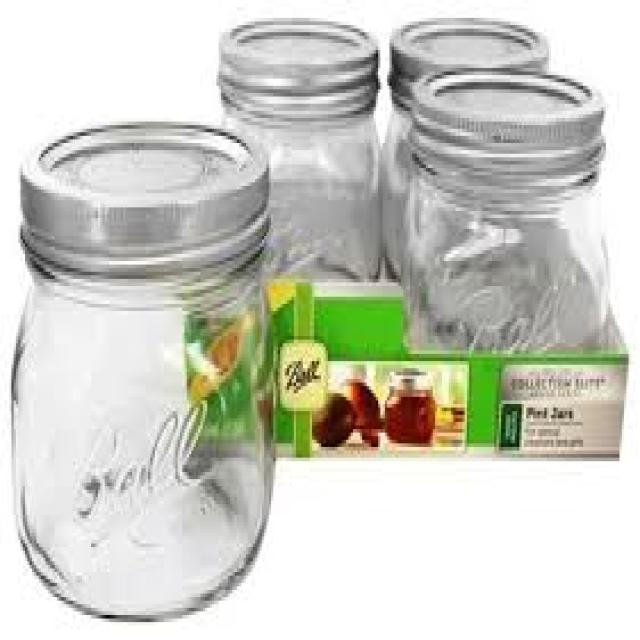cardboard: (183, 283, 406, 451), (403, 347, 626, 454)
glass: (12, 254, 274, 618), (403, 147, 608, 351), (219, 100, 383, 283), (380, 96, 408, 279)
metal: (21, 122, 264, 268), (403, 65, 604, 190), (214, 14, 376, 118), (388, 18, 545, 104)
